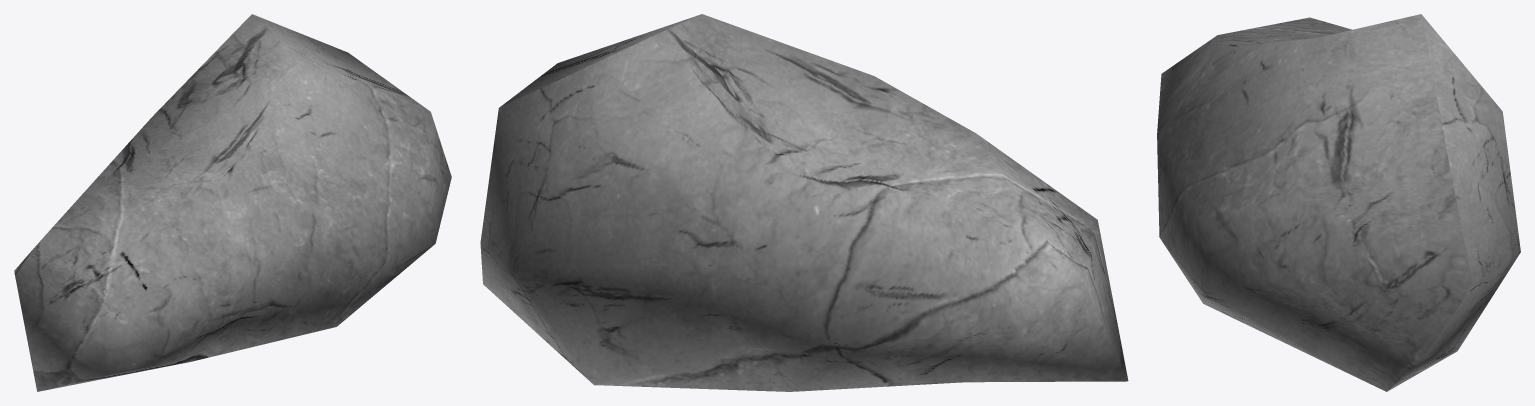
The model's file is ROCK_1.FBX.
The picture shows the model from 3 angles, left to right: view 1: azimuth 30°, elevation 25°; view 2: azimuth 150°, elevation 25°; view 3: azimuth 270°, elevation 25°; orthographic projection. The views are drawn at different scales.
Visible parts, largest first — view 1: 01; view 2: 01; view 3: 01.
Boxes of the visible parts, x1,y1,x2,y2 form: 01: (14,14,451,391); 01: (480,14,1128,391); 01: (1157,14,1520,391).
Size of the model in its own units: 769 by 455 by 470.
1 material, 1 textured.
